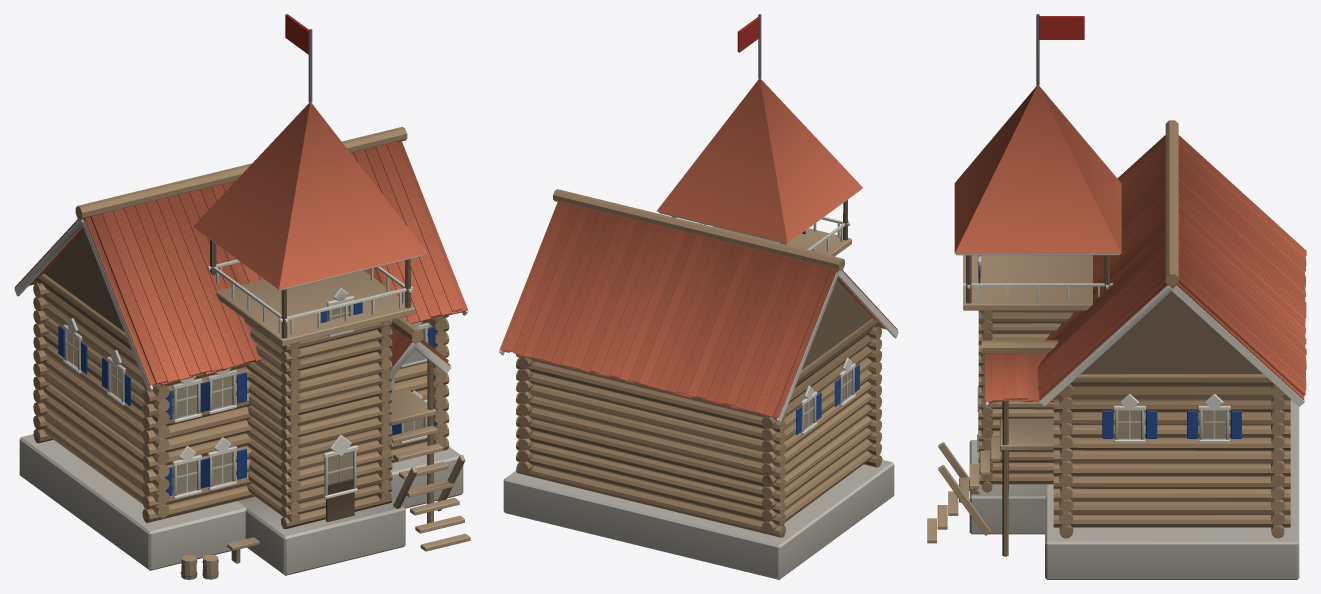
The model's file is bld_townhall_e1.glb.
3 renders of one model, left to right at view 1: azimuth 30°, elevation 25°; view 2: azimuth 150°, elevation 25°; view 3: azimuth 270°, elevation 25°, orthographic. The views are drawn at different scales.
Visible parts, largest first — view 1: townhall; view 2: townhall; view 3: townhall.
Part boxes in pixels (<box>): townhall: <box>14,14,470,579</box>; townhall: <box>499,14,898,579</box>; townhall: <box>927,14,1306,579</box>.
Bounding box in the file's own units: 2.58 × 3.84 × 2.69.
